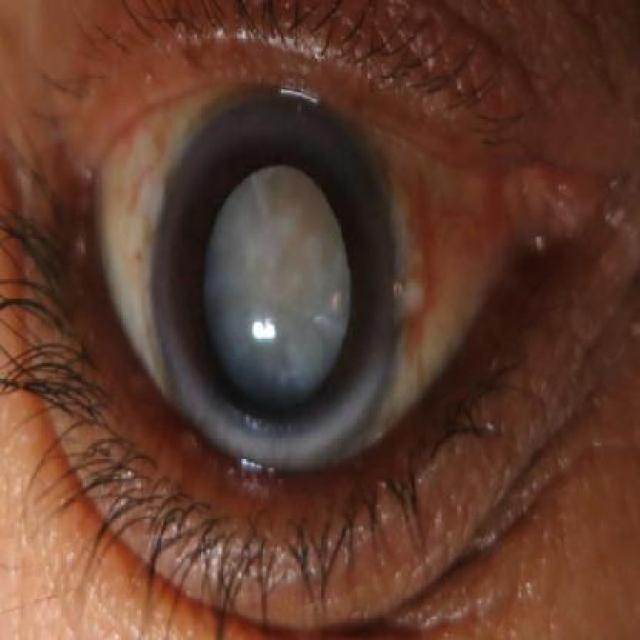Cataract: (146, 91, 399, 472)
